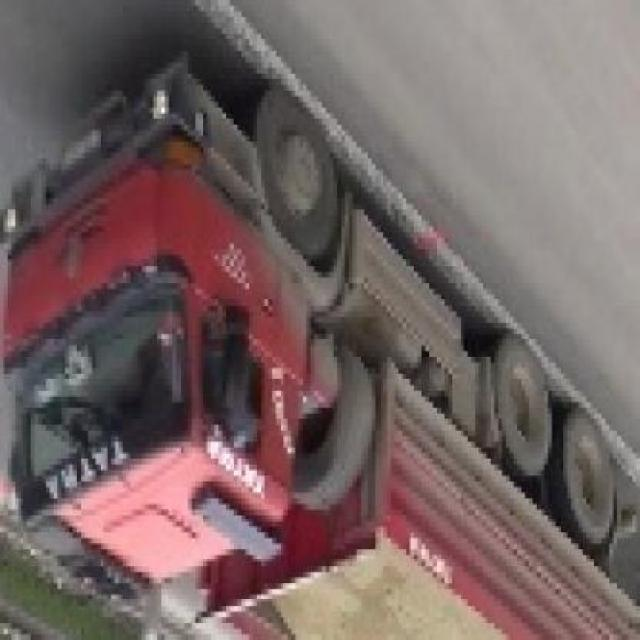truck: (1, 69, 638, 640)
